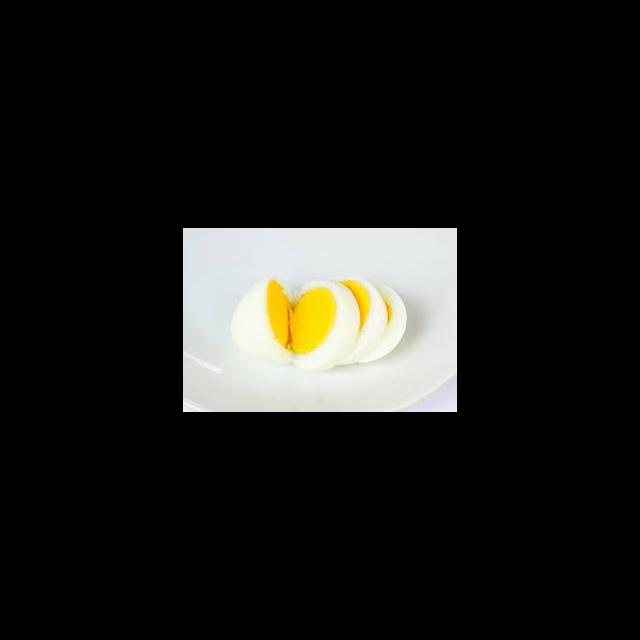food_waste: (220, 264, 419, 385)
